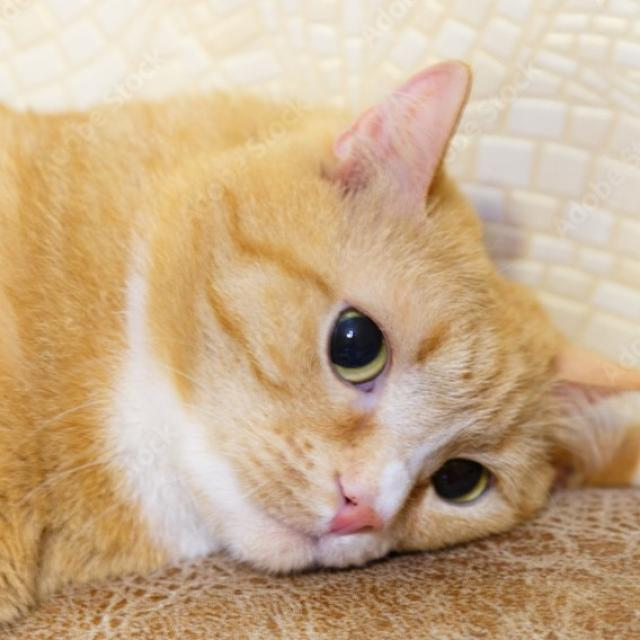Sad: (233, 247, 519, 562)
